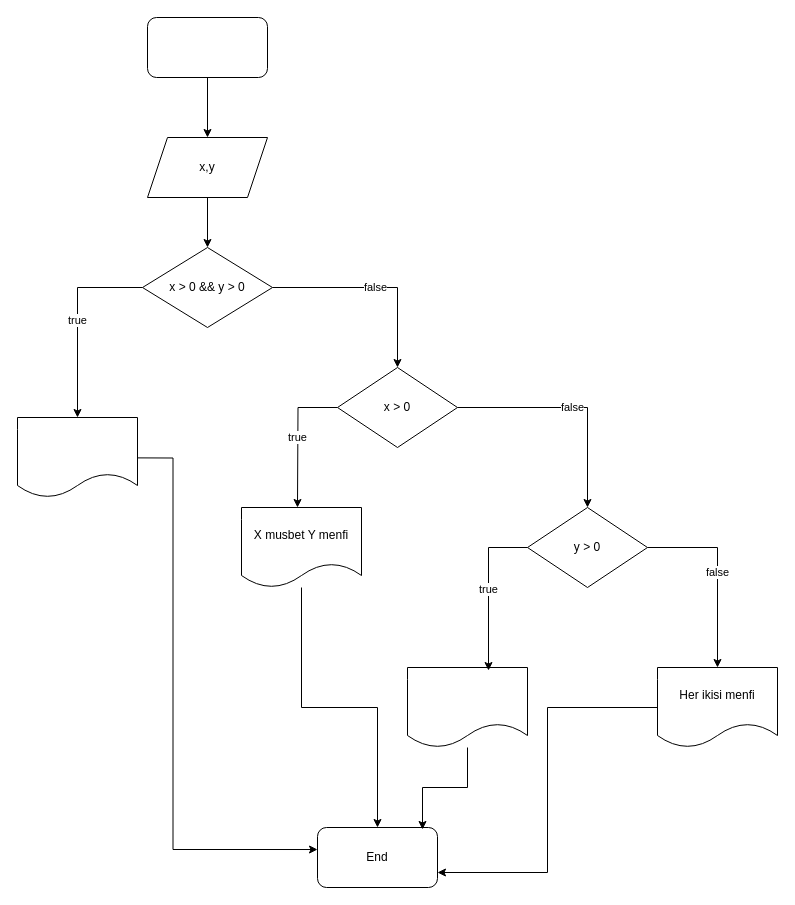
Image size: 795x905. Some labels were removed from this diagram. Here are the shapes that lost their labels. From the top down, the centre of each, then its label:
pixel 207 47: Start
pixel 77 457: Her ikisi Musbet
pixel 467 707: X menfi Y musbet
